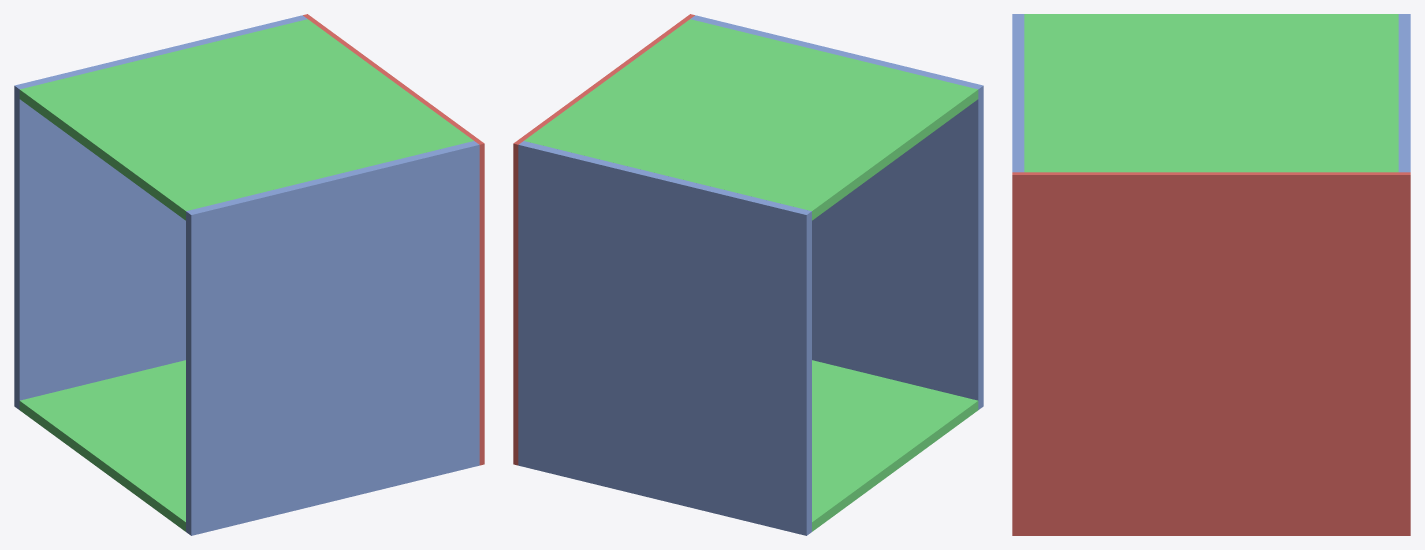
File: kast.gltf
3 renders of one model, left to right at view 1: azimuth 30°, elevation 25°; view 2: azimuth 150°, elevation 25°; view 3: azimuth 270°, elevation 25°, orthographic. The views are drawn at different scales.
Visible parts, largest first — view 1: rechts, boven, links, onder, achter; view 2: links, boven, rechts, onder, achter; view 3: achter, boven, links, rechts.
Boxes of the visible parts, box(x1,y1,x2,y2) form: rechts: box(186, 141, 479, 535); boven: box(19, 19, 473, 220); links: box(14, 15, 307, 409); onder: box(19, 360, 185, 531); achter: box(303, 14, 484, 465); links: box(518, 141, 811, 535); boven: box(524, 19, 978, 220); rechts: box(690, 15, 983, 409); onder: box(812, 360, 978, 531); achter: box(513, 14, 694, 465); achter: box(1012, 172, 1410, 535); boven: box(1024, 14, 1398, 172); links: box(1398, 14, 1410, 172); rechts: box(1012, 14, 1024, 172).
Size of the model in its own units: 0.574 by 0.6 by 0.6.
